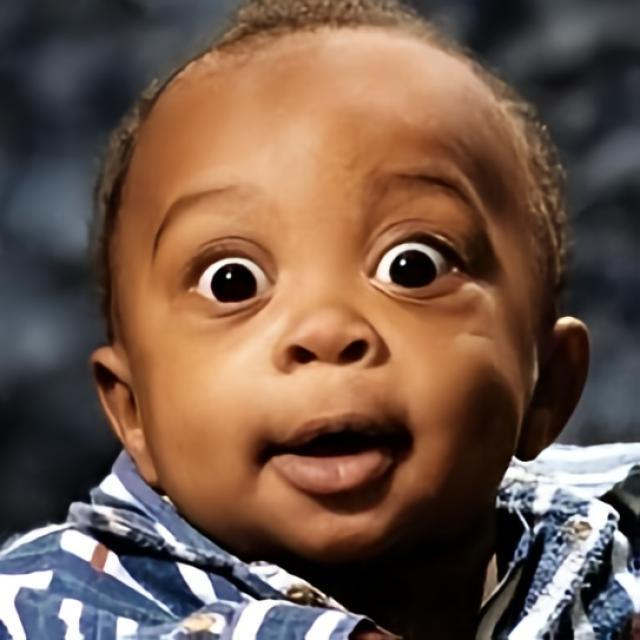surprise: (111, 26, 532, 594)
